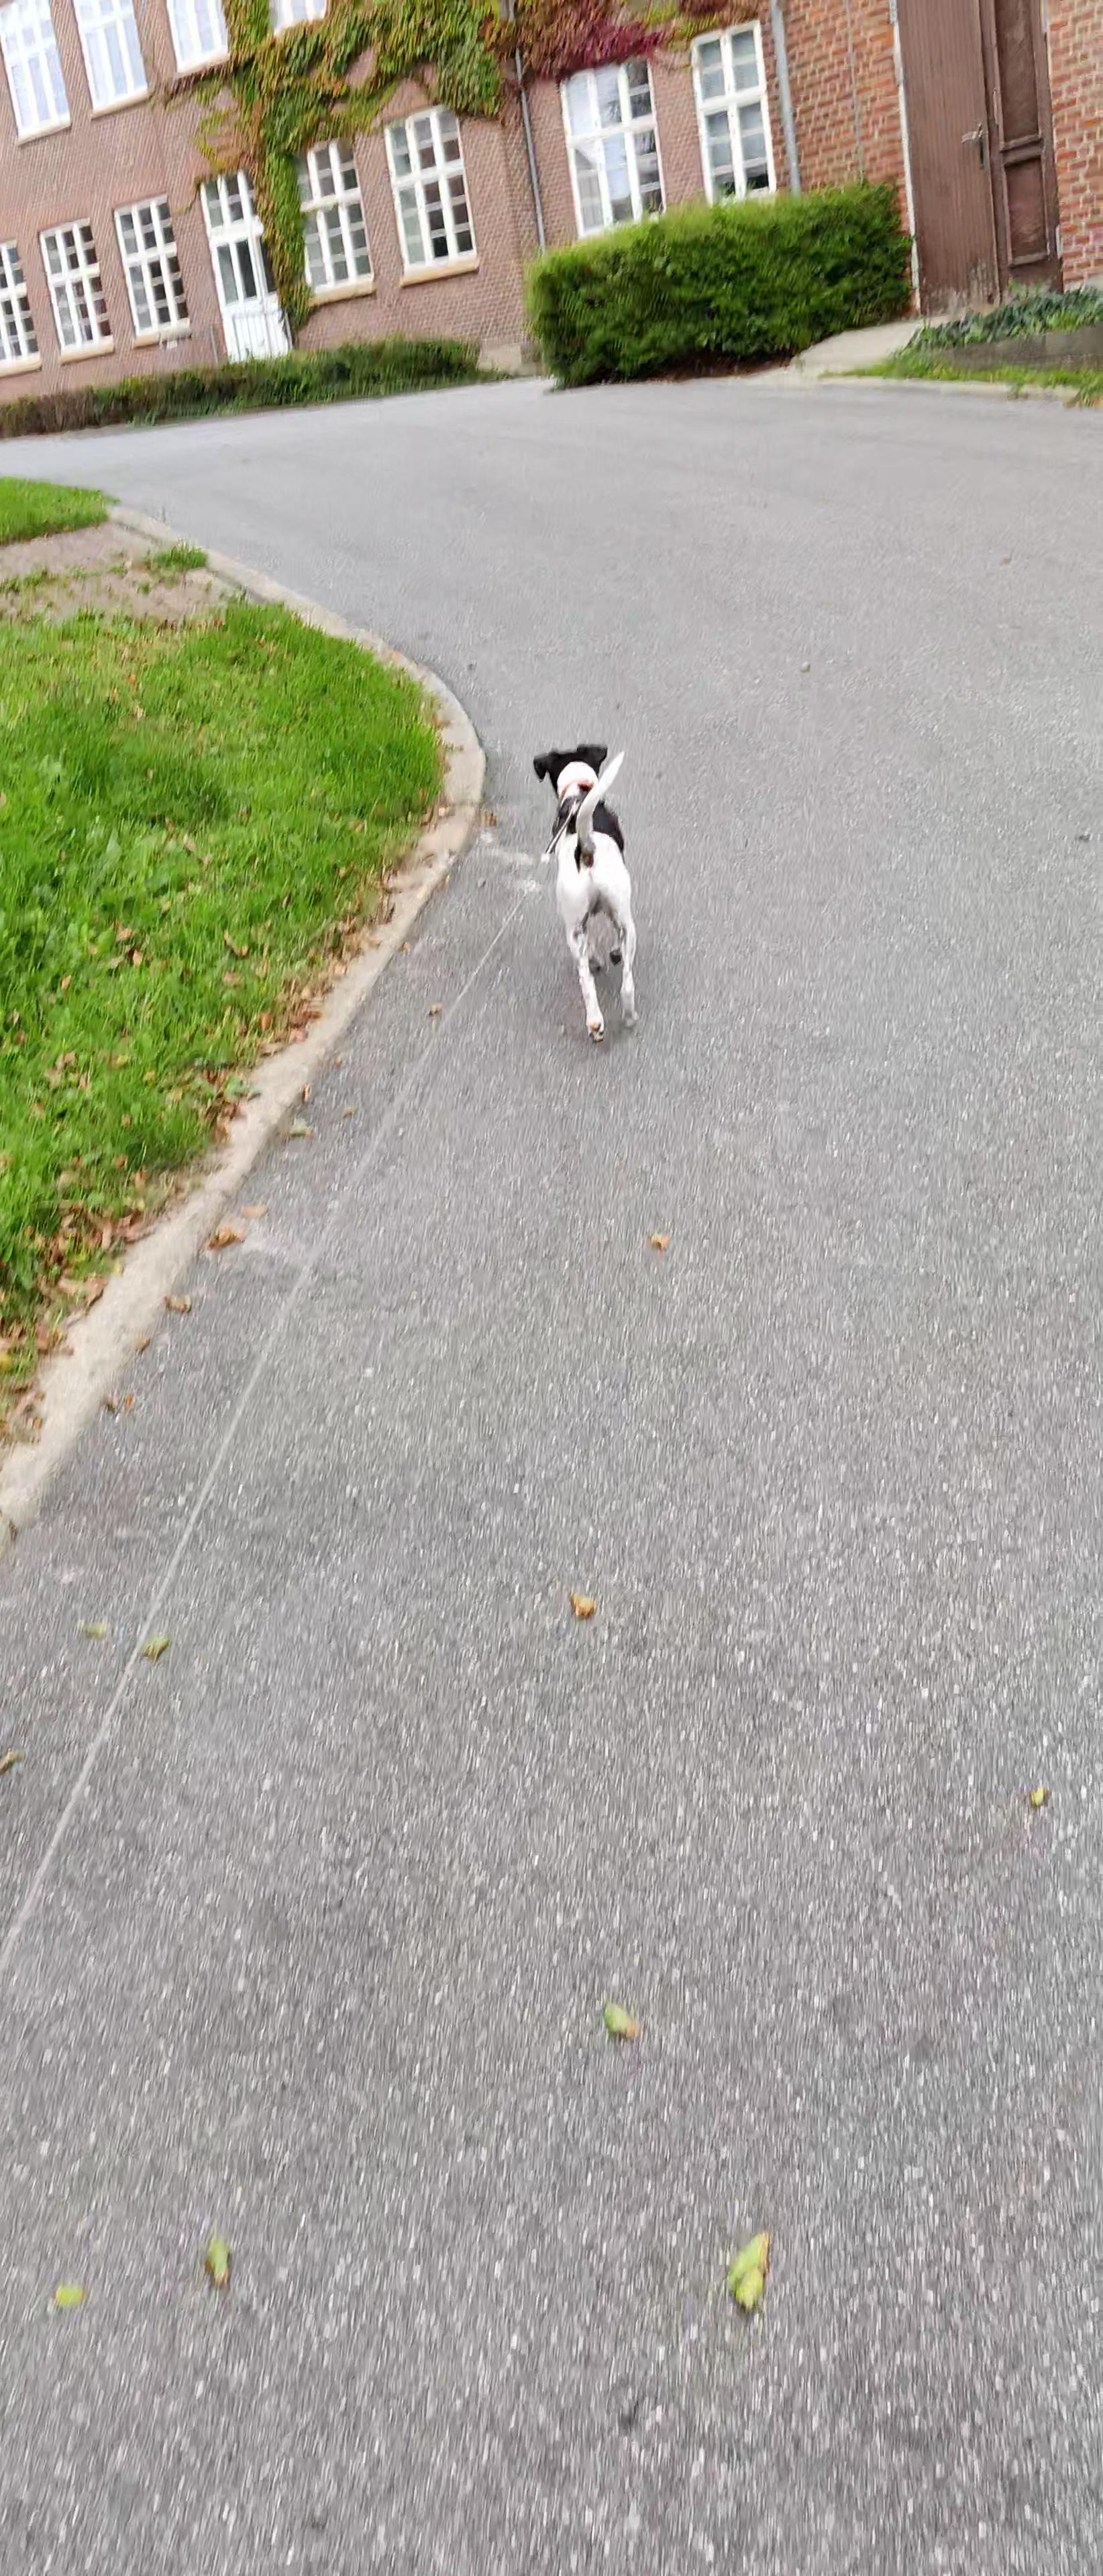Dog: (528, 739, 646, 1045)
